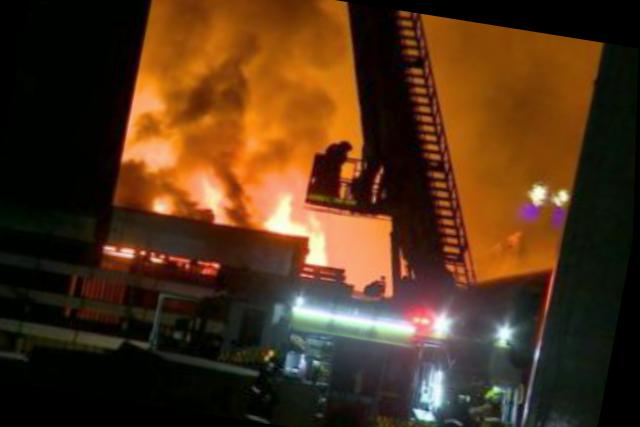fire: (197, 178, 237, 224), (265, 194, 304, 234), (146, 183, 184, 218), (306, 229, 333, 270)
smoke: (479, 29, 598, 264), (134, 0, 351, 121), (120, 87, 325, 155), (132, 132, 309, 192), (463, 28, 513, 220), (451, 22, 489, 156), (326, 212, 396, 277), (440, 21, 471, 106), (330, 86, 357, 150), (433, 19, 452, 78), (424, 14, 439, 31)
